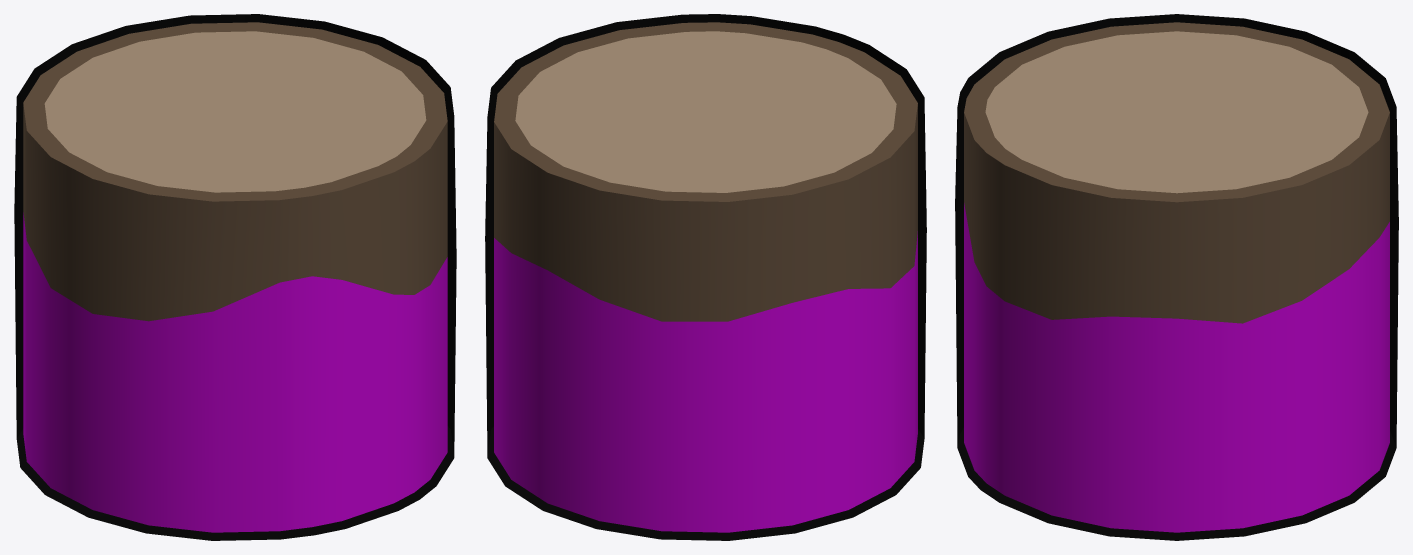
File: Log.fbx
3 renders of one model, left to right at view 1: azimuth 30°, elevation 25°; view 2: azimuth 150°, elevation 25°; view 3: azimuth 270°, elevation 25°, orthographic.
Parts seen in each view (by area): view 1: polySurface431, polySurface430; view 2: polySurface431, polySurface430; view 3: polySurface431, polySurface430.
Part boxes in pixels (left/top/right/bottom): polySurface431: left=23, top=22, right=447, bottom=532; polySurface430: left=14, top=14, right=456, bottom=540; polySurface431: left=494, top=22, right=917, bottom=532; polySurface430: left=485, top=14, right=926, bottom=540; polySurface431: left=964, top=22, right=1389, bottom=532; polySurface430: left=955, top=14, right=1398, bottom=540.
Bounding box in the file's own units: 6.59 × 5.68 × 6.59.
